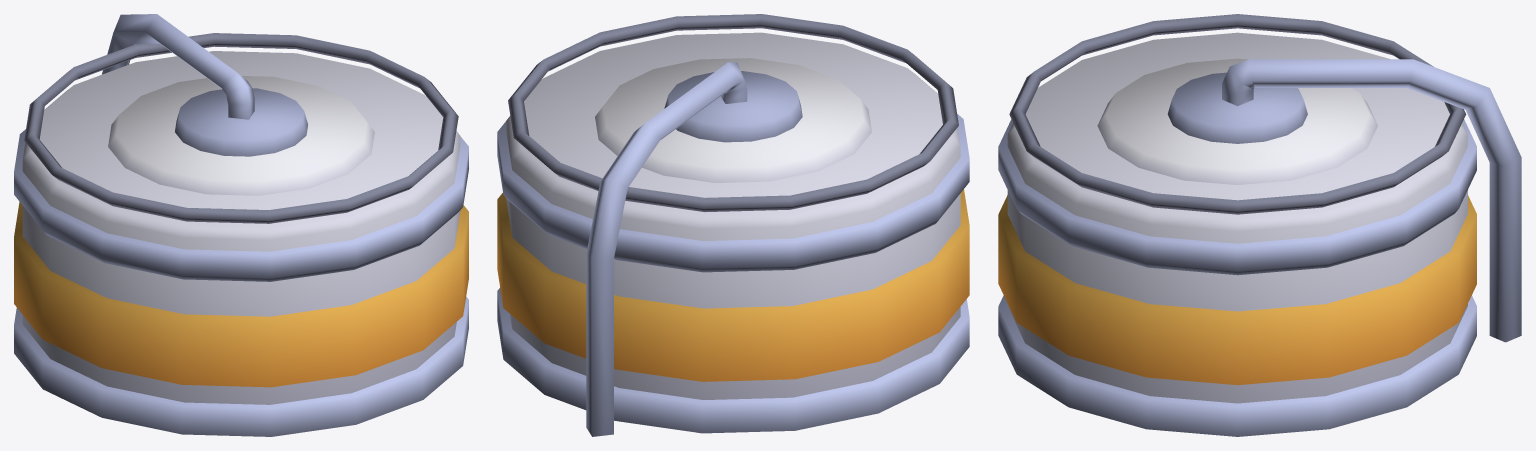
File: tank_0.fbx
3 renders of one model, left to right at view 1: azimuth 30°, elevation 25°; view 2: azimuth 150°, elevation 25°; view 3: azimuth 270°, elevation 25°, orthographic. The views are drawn at different scales.
Parts seen in each view (by area): view 1: tank_0; view 2: tank_0; view 3: tank_0.
Part boxes in pixels (box(x1,y1,x2,y2)): tank_0: box(14, 14, 468, 436); tank_0: box(497, 14, 969, 436); tank_0: box(998, 14, 1521, 436).
Bounding box in the file's own units: 1.51 × 0.9616 × 1.65.
Materials: 1 (1 with a texture image).
